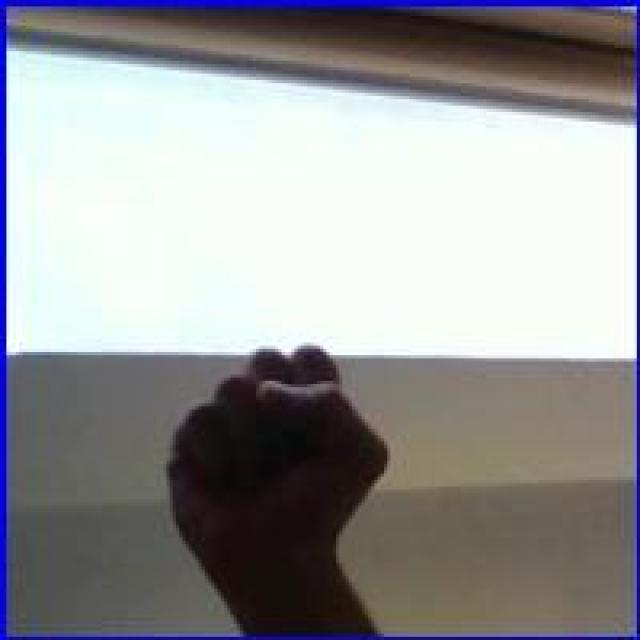S: (162, 338, 398, 568)
